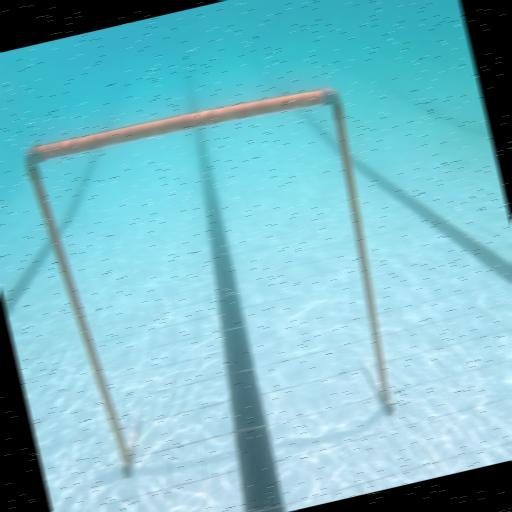gate: (22, 76, 412, 482)
